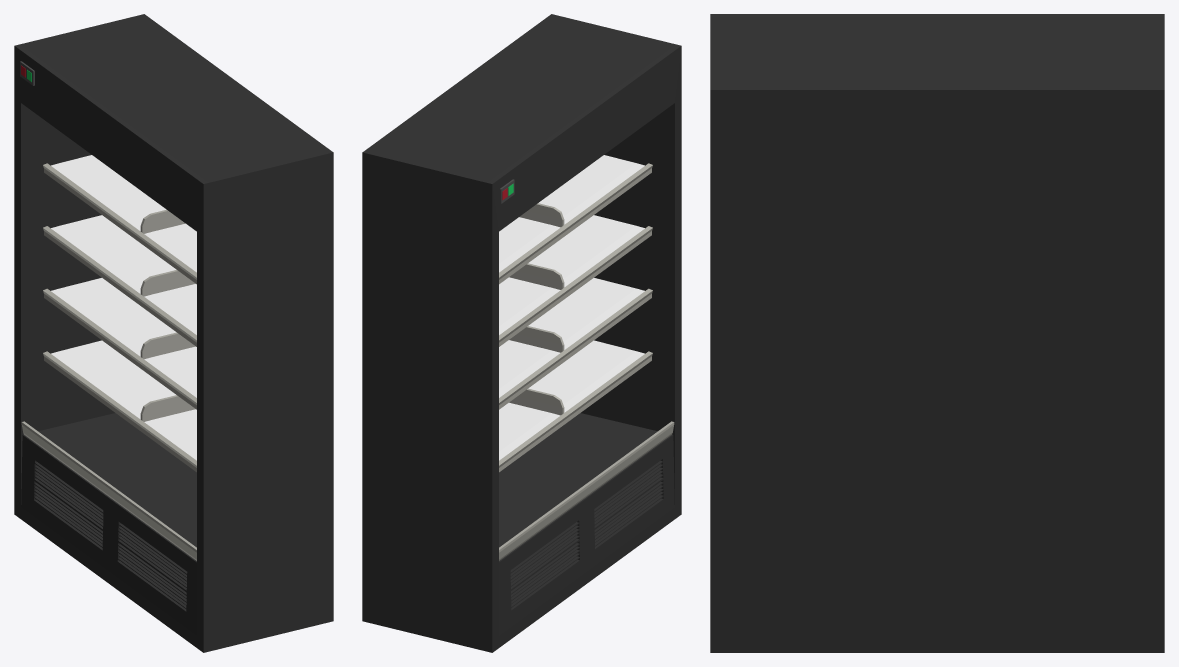
Rendered from ss-cooler.lod1.glb.
The picture shows the model from 3 angles, left to right: view 1: azimuth 30°, elevation 25°; view 2: azimuth 150°, elevation 25°; view 3: azimuth 270°, elevation 25°; orthographic projection. The views are drawn at different scales.
Visible parts, largest first — view 1: Fridge_Palette_0; view 2: Fridge_Palette_0; view 3: Fridge_Palette_0.
Part boxes in pixels (<box>): Fridge_Palette_0: <box>14,14,333,652</box>; Fridge_Palette_0: <box>362,14,681,652</box>; Fridge_Palette_0: <box>710,14,1164,652</box>.
Size of the model in its own units: 0.6443 by 2.19 by 1.6.
1 material, 1 textured.
